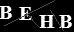B: (58, 14, 73, 29), (1, 5, 12, 20)
E: (18, 6, 33, 21)
H: (38, 14, 55, 29)
